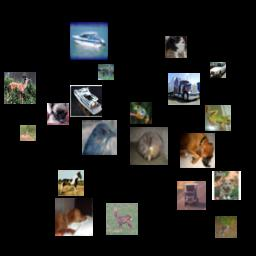automobile: (210, 62, 226, 78)
bird: (82, 120, 117, 155), (20, 125, 36, 141)
cat: (130, 127, 168, 165), (215, 216, 237, 238)
deer: (106, 203, 138, 235), (4, 72, 36, 104), (98, 64, 114, 80)
dog: (55, 198, 93, 236), (180, 133, 215, 168), (212, 171, 241, 200), (47, 103, 69, 125), (165, 36, 187, 58)
frog: (205, 105, 231, 131), (130, 102, 152, 124)
ship: (70, 22, 108, 60), (70, 85, 102, 117)
truck: (168, 73, 200, 105), (177, 181, 206, 210)
